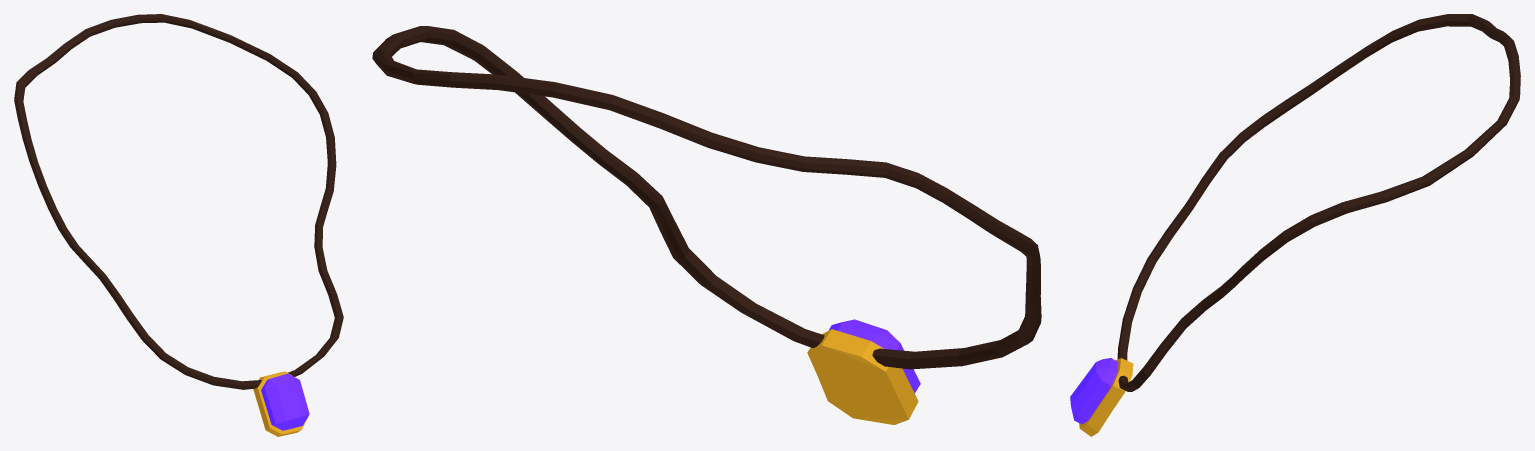
File: necklace1.glb
3 renders of one model, left to right at view 1: azimuth 30°, elevation 25°; view 2: azimuth 150°, elevation 25°; view 3: azimuth 270°, elevation 25°, orthographic. The views are drawn at different scales.
Parts seen in each view (by area): view 1: Necklace1; view 2: Necklace1; view 3: Necklace1.
Boxes of the visible parts, <box> form: Necklace1: <box>14,14,343,436</box>; Necklace1: <box>372,26,1041,424</box>; Necklace1: <box>1070,14,1520,436</box>.
Bounding box in the file's own units: 87.34 × 87.67 × 96.29.
